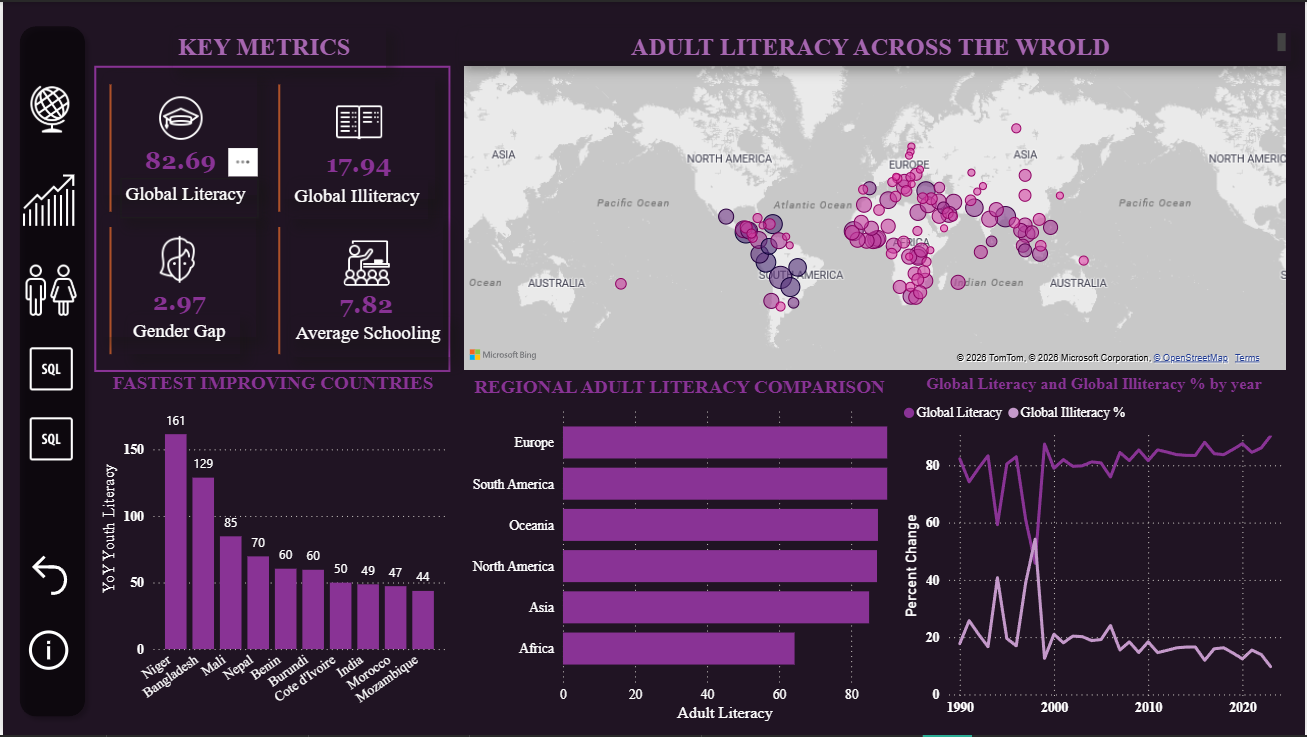

What the dashboard file says about the page in this screenshot:
{"tool":"powerbi","page":{"name":"Global Overview","canvas":[1280,720],"ordinal":0},"visuals":[{"type":"shape","box":[89.6,62.6,349.7,300.6],"z":0},{"type":"cardVisual","title":"Global Literacy Rate","fields":{"Data":["Avg(Literacy Data.adult_literacy_rate)"]},"box":[99.6,69.9,150,120],"z":1000},{"type":"shape","box":[7.4,14.7,82.2,695.7],"z":2000},{"type":"image","box":[20.9,79.8,50,50],"z":3000},{"type":"image","box":[22.1,257.7,50.3,50.3],"z":4000},{"type":"image","box":[19.6,169.3,50.3,50.3],"z":5000},{"type":"actionButton","box":[19.6,611,50.3,50.3],"z":6000},{"type":"actionButton","box":[20.9,537.4,50.3,50.3],"z":7000},{"type":"textbox","box":[166.9,25.8,208.6,39.3],"z":8000},{"type":"textbox","box":[115.3,173,136.2,39.3],"z":9000},{"type":"shape","box":[101.8,81,7.4,125],"z":10000},{"type":"shape","box":[101.8,220.9,7.4,125],"z":11000},{"type":"cardVisual","title":"Global Literacy Rate","fields":{"Data":["Illiteracy Data.Global Illiteracy"]},"box":[274.8,73.6,149.7,120.2],"z":12000},{"type":"textbox","box":[281,174.2,136.2,39.3],"z":13000},{"type":"shape","box":[267.5,81,7.4,125],"z":14000},{"type":"cardVisual","title":"Global Literacy Rate","fields":{"Data":["Literacy Data.Gender Gap"]},"box":[98.2,208.8,150,120],"z":15000},{"type":"textbox","box":[122.7,306.8,109.2,39.3],"z":16000},{"type":"shape","box":[267.5,220.9,7.4,125.2],"z":17000},{"type":"cardVisual","title":"Global Literacy Rate","fields":{"Data":["Literacy Data.Avg Schooling"]},"box":[282.2,212.3,149.7,120.2],"z":18000},{"type":"textbox","box":[282.2,309.2,157.1,39.3],"z":19000},{"type":"map","title":"ADULT LITERACY ACROSS THE WORLD","fields":{"Category":["Literacy Data.country"],"Size":["Count(Literacy Data.adult_literacy_rate)"]},"box":[447.9,57.7,816,308],"z":20000},{"type":"textbox","box":[447.9,25.8,816,31.9],"z":21000},{"type":"columnChart","title":"FASTEST IMPROVING COUNTRIES","fields":{"Category":["Literacy Data.country"],"Y":["Sum(Literacy Data.youth_literacy_yoy)"]},"box":[90.6,363.6,348.5,347.2],"z":22000},{"type":"clusteredBarChart","title":"REGIONAL ADULT LITERACY COMPARISON","fields":{"Category":["Literacy Data.continent"],"Y":["Avg(Literacy Data.adult_literacy_rate)"]},"box":[447.3,366.4,432.2,344.4],"z":23000},{"type":"lineChart","fields":{"Category":["Literacy Data.year"],"Y":["Literacy Data.Global Literacy","Literacy Data.Global Illiteracy %"]},"box":[879,366,385,344],"z":24000},{"type":"image","box":[22.1,335,50.3,50.3],"z":25000},{"type":"image","box":[22.1,403.7,50.3,50.3],"z":26000}]}

Visuals, with their boxes on the page's 1280x720 design canvas (x1, y1, x2, y2). These are canvas units, not pixel positions in the 1307x737 screenshot, which may show the page scaled, cropped or inside an application window:
shape: rect(90, 63, 439, 363)
"Global Literacy Rate" cardVisual: rect(100, 70, 250, 190)
shape: rect(7, 15, 90, 710)
image: rect(21, 80, 71, 130)
image: rect(22, 258, 72, 308)
image: rect(20, 169, 70, 220)
actionButton: rect(20, 611, 70, 661)
actionButton: rect(21, 537, 71, 588)
textbox: rect(167, 26, 376, 65)
textbox: rect(115, 173, 252, 212)
shape: rect(102, 81, 109, 206)
shape: rect(102, 221, 109, 346)
"Global Literacy Rate" cardVisual: rect(275, 74, 424, 194)
textbox: rect(281, 174, 417, 214)
shape: rect(268, 81, 275, 206)
"Global Literacy Rate" cardVisual: rect(98, 209, 248, 329)
textbox: rect(123, 307, 232, 346)
shape: rect(268, 221, 275, 346)
"Global Literacy Rate" cardVisual: rect(282, 212, 432, 332)
textbox: rect(282, 309, 439, 348)
"ADULT LITERACY ACROSS THE WORLD" map: rect(448, 58, 1264, 366)
textbox: rect(448, 26, 1264, 58)
"FASTEST IMPROVING COUNTRIES" columnChart: rect(91, 364, 439, 711)
"REGIONAL ADULT LITERACY COMPARISON" clusteredBarChart: rect(447, 366, 880, 711)
lineChart - Literacy Data.year x Literacy Data.Global Literacy: rect(879, 366, 1264, 710)
image: rect(22, 335, 72, 385)
image: rect(22, 404, 72, 454)
